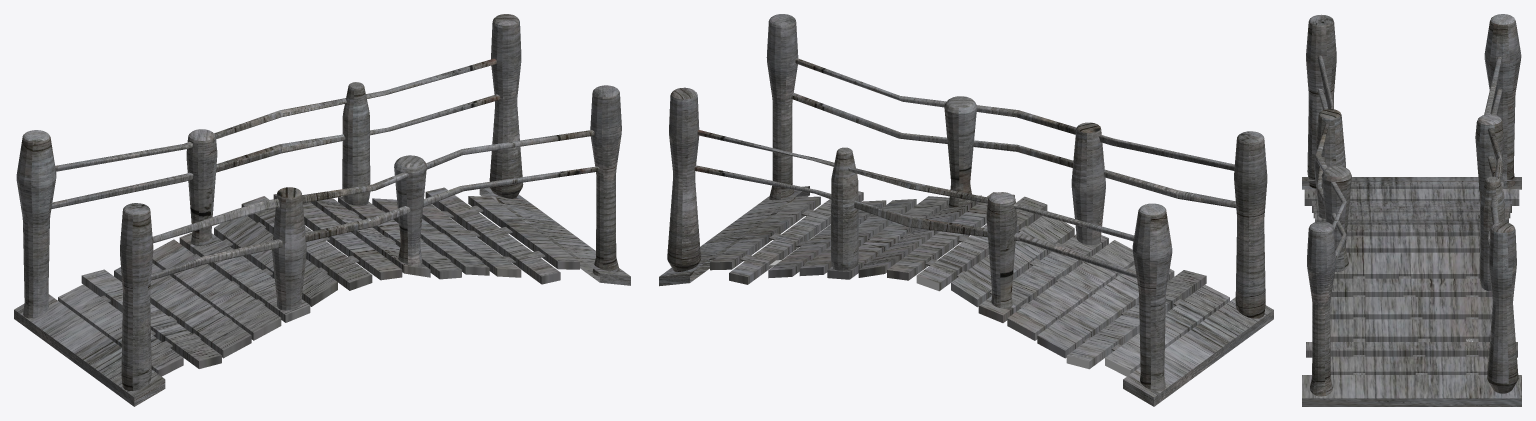
The model's file is Köprü Low Poly Organik.fbx.
The picture shows the model from 3 angles, left to right: view 1: azimuth 30°, elevation 25°; view 2: azimuth 150°, elevation 25°; view 3: azimuth 270°, elevation 25°; orthographic projection. The views are drawn at different scales.
Visible parts, largest first — view 1: Cube.048, Cylinder.001, Cylinder.009, Cube.002; view 2: Cube.048, Cylinder.001, Cylinder.009, Cube.002, Cube; view 3: Cube.048, Cylinder.001, Cylinder.009, Cube.002.
Boxes of the visible parts, bbox=[...] form: Cube.048: bbox=[14, 187, 630, 406]; Cylinder.001: bbox=[16, 14, 621, 390]; Cylinder.009: bbox=[51, 58, 599, 280]; Cube.002: bbox=[101, 204, 576, 347]; Cube.048: bbox=[659, 186, 1273, 406]; Cylinder.001: bbox=[667, 14, 1267, 391]; Cylinder.009: bbox=[694, 58, 1236, 278]; Cube.002: bbox=[709, 208, 1182, 350]; Cube: bbox=[916, 275, 1130, 376]; Cube.048: bbox=[1302, 177, 1521, 406]; Cylinder.001: bbox=[1306, 14, 1521, 396]; Cylinder.009: bbox=[1315, 55, 1504, 260]; Cube.002: bbox=[1353, 235, 1478, 374].
Size of the model in its own units: 1014 by 370 by 420.
Materials: 2 (1 with a texture image).
